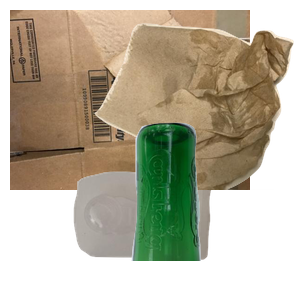cardboard: (10, 10, 250, 190)
glass: (129, 120, 300, 300)
plastic: (71, 169, 275, 300)
trash: (92, 21, 300, 201)
